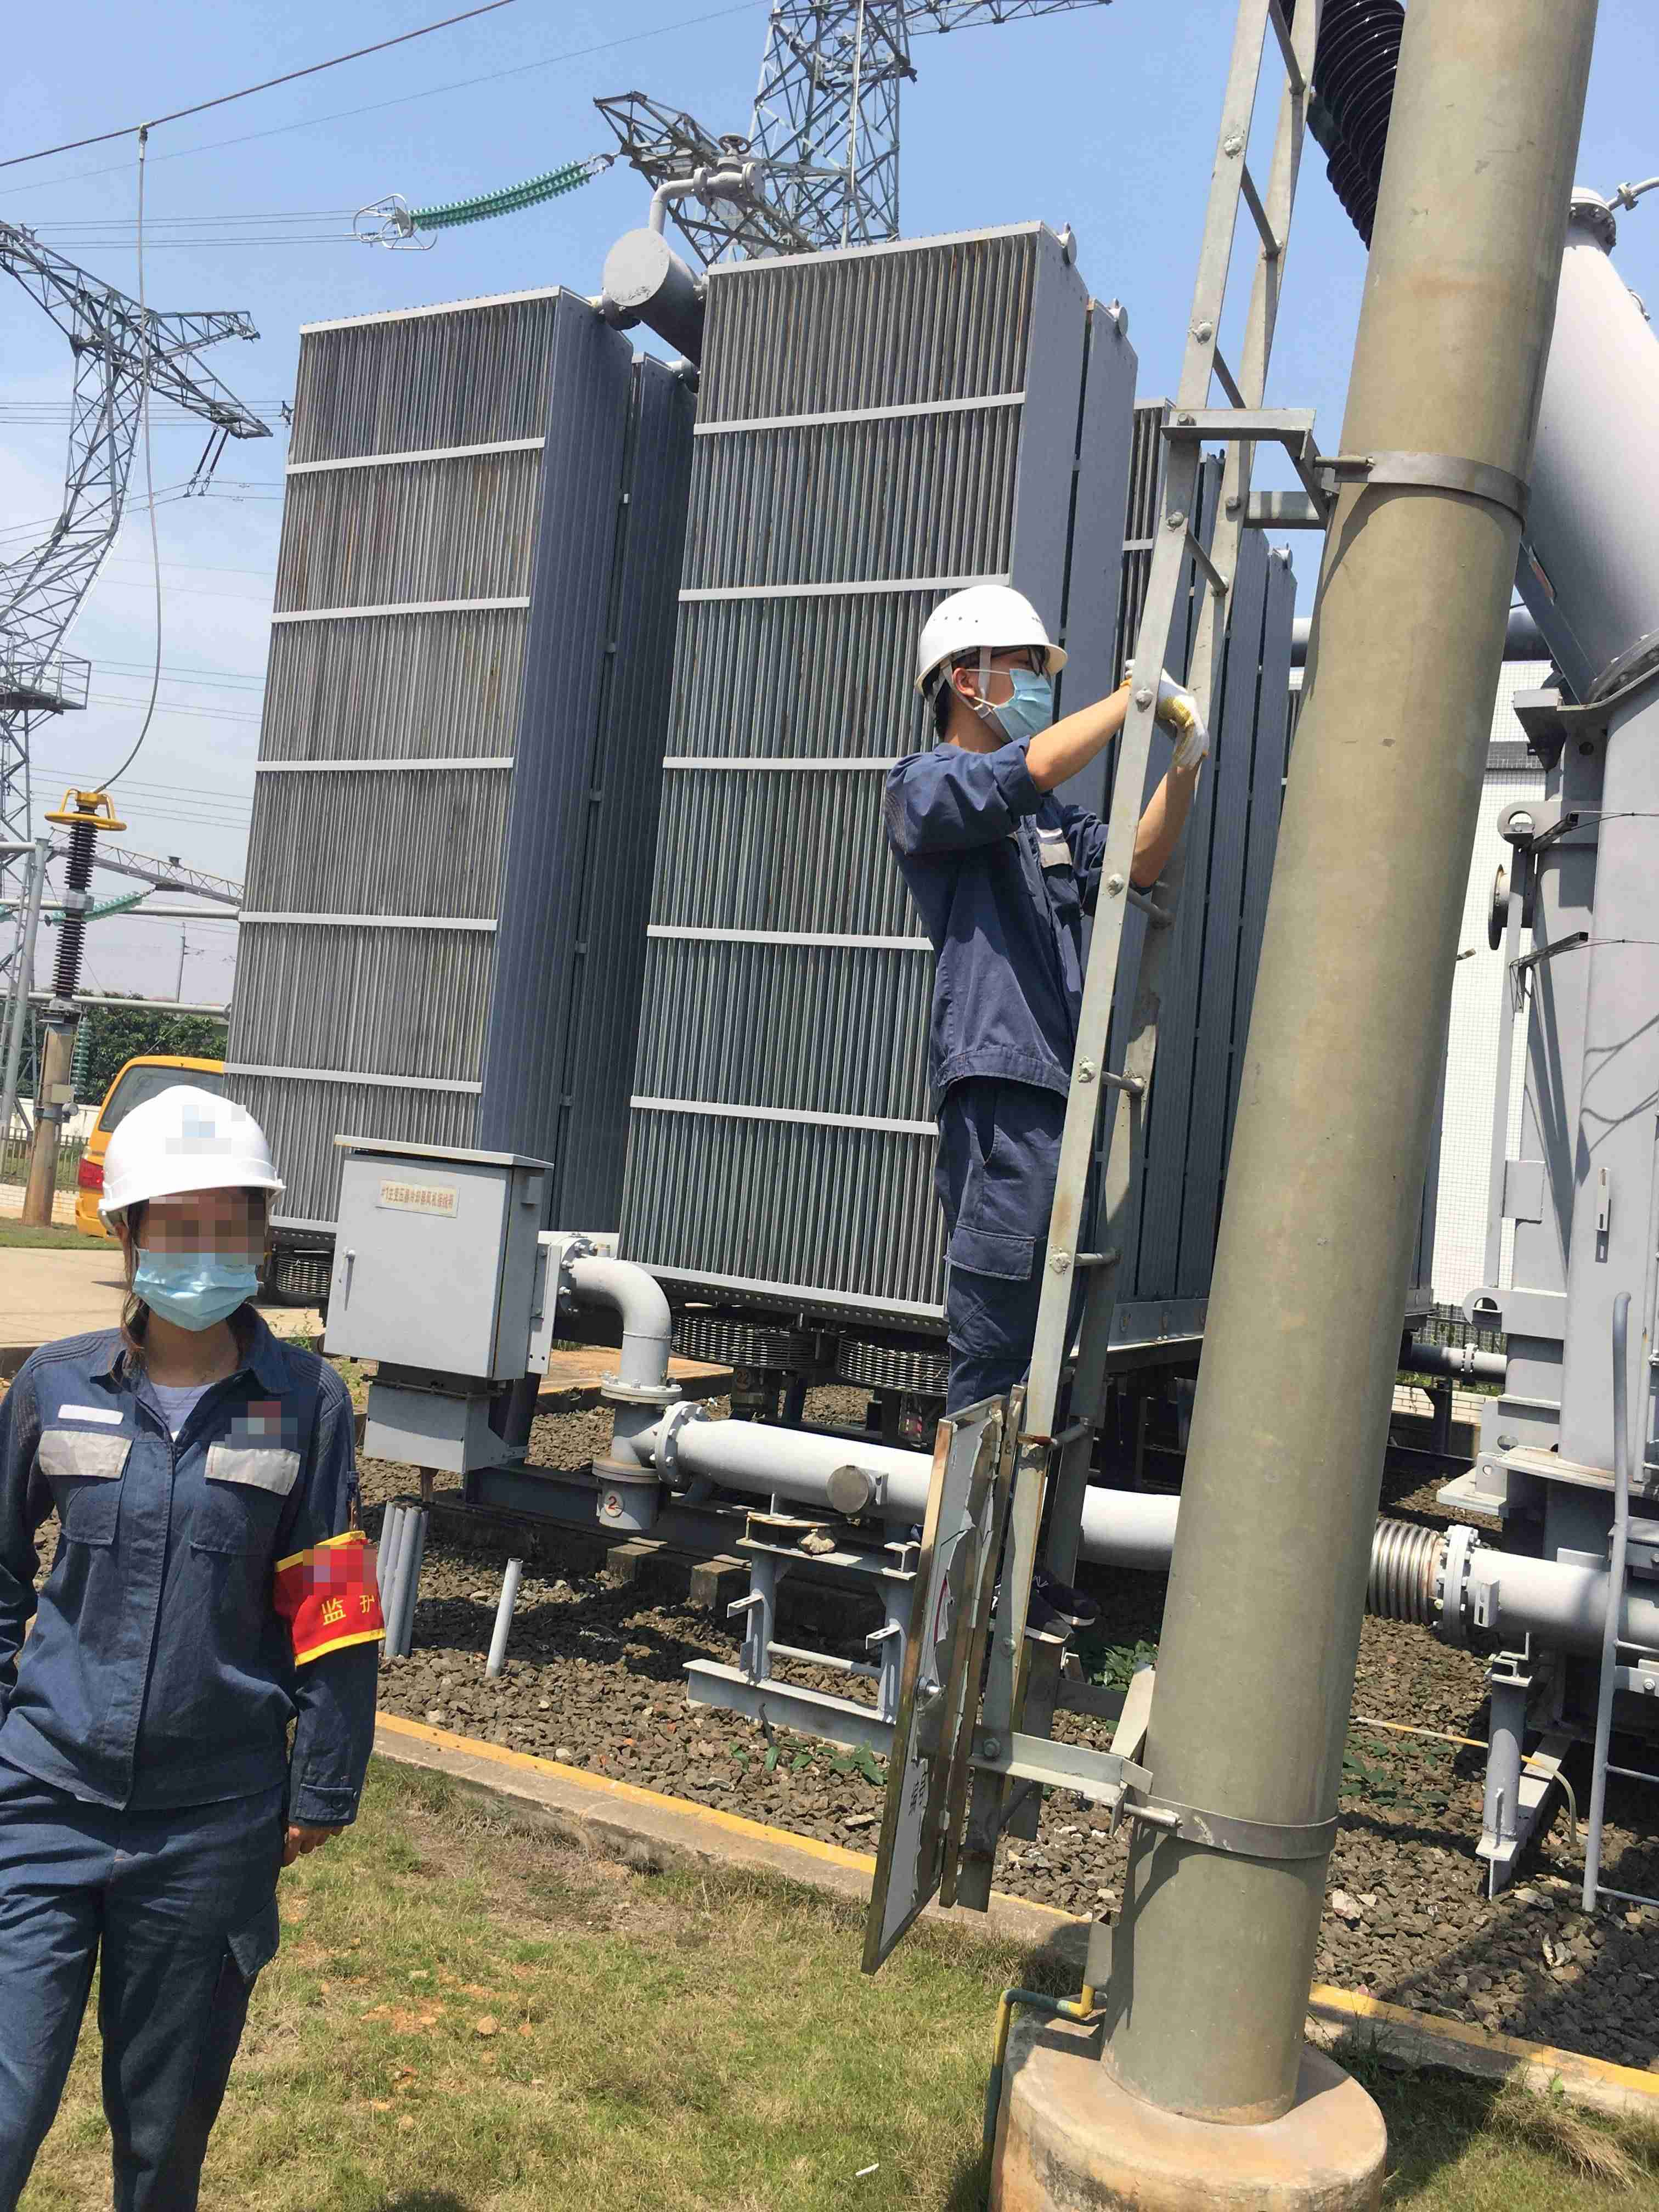downsuit: (2, 1757, 288, 2212), (931, 1082, 1100, 1414)
upsuit: (3, 1306, 387, 1827), (884, 751, 1114, 1118)
wrongtop: (988, 679, 1131, 824), (1129, 742, 1209, 900)
